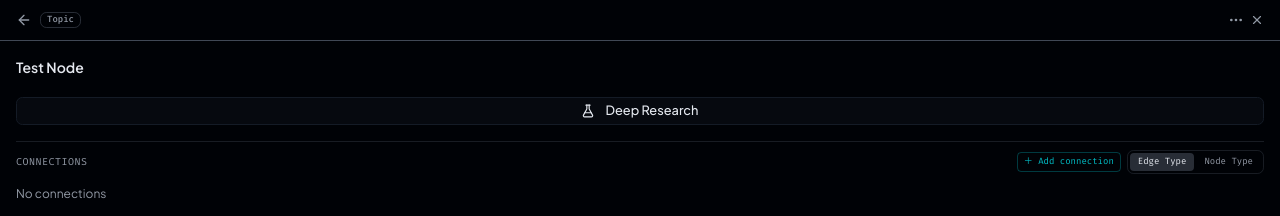
NodePreviewPanel – WatchButton › renders Watch item in dropdown when user has pubKey and node is not watched
Expected: the text "Test Node" is shown, [16, 58, 84, 76]
What coordinates should you click on to do the following:
click the button titled "More actions"
I would click on:
 (1236, 20)
Its box is [1228, 12, 1244, 28].
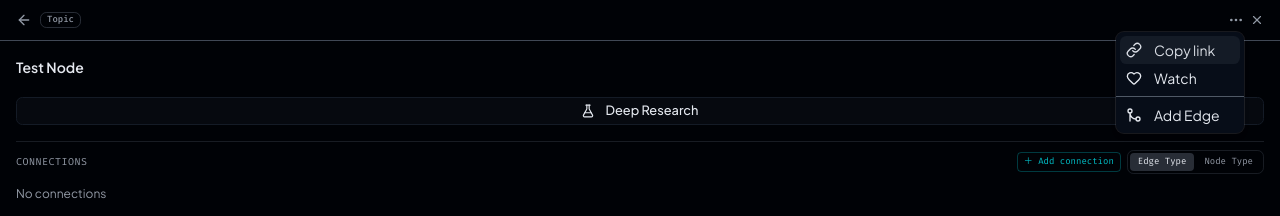
Expected: the menu item "Watch" is shown, [1126, 69, 1197, 87]
